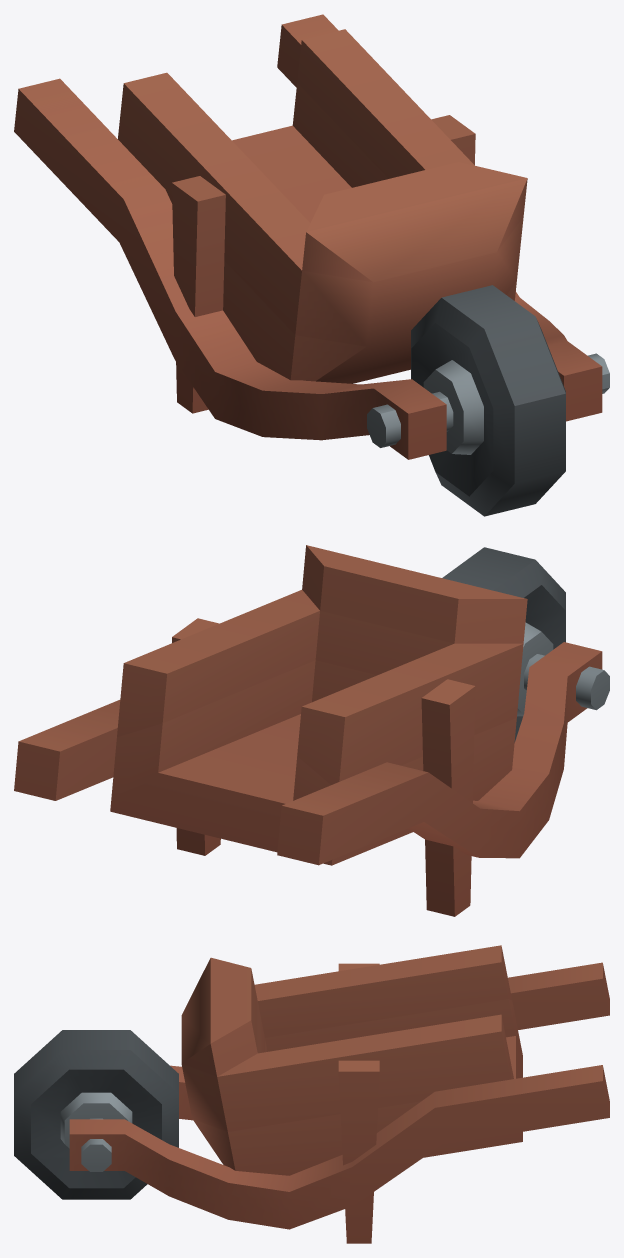
File: wheelbarrow.glb
3 renders of one model, top to bottom at view 1: azimuth 30°, elevation 25°; view 2: azimuth 150°, elevation 25°; view 3: azimuth 270°, elevation 25°, orthographic. The views are drawn at different scales.
Visible parts, largest first — view 1: wheelbarrow; view 2: wheelbarrow; view 3: wheelbarrow.
Part boxes in pixels (<box>): wheelbarrow: <box>14,14,609,516</box>; wheelbarrow: <box>14,545,609,916</box>; wheelbarrow: <box>14,945,609,1243</box>.
Bounding box in the file's own units: 0.238 × 0.1884 × 0.5057.
1 material, 1 textured.
